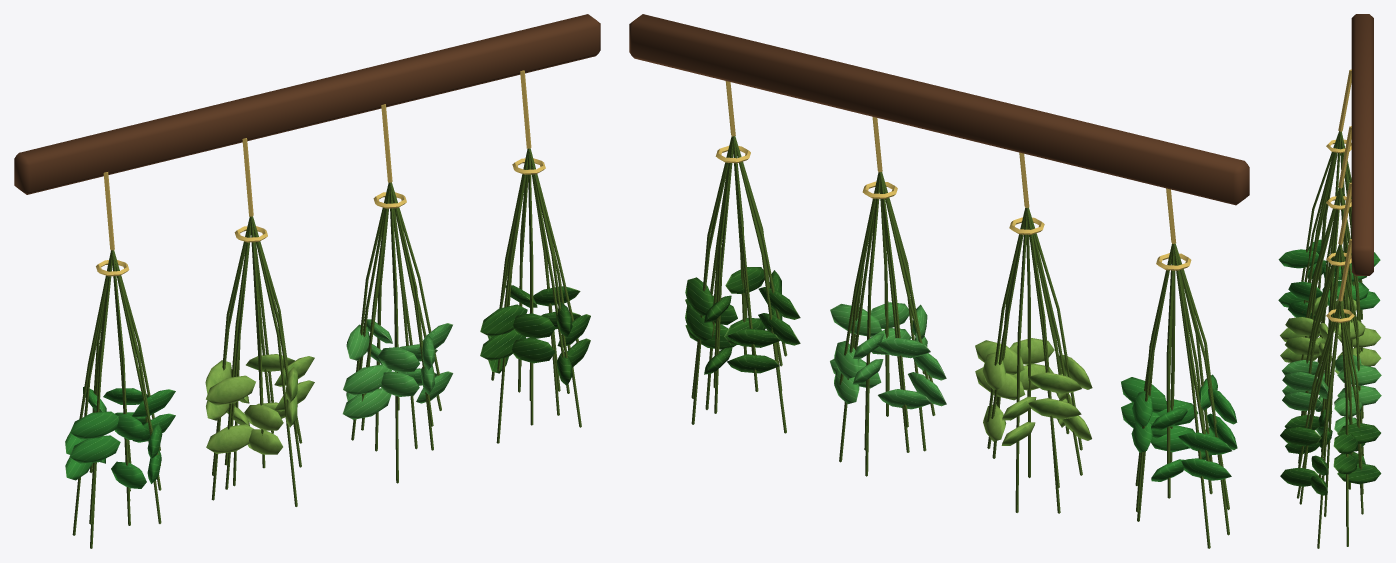
The model's file is hanging_herb_bundles.glb.
3 renders of one model, left to right at view 1: azimuth 30°, elevation 25°; view 2: azimuth 150°, elevation 25°; view 3: azimuth 270°, elevation 25°, orthographic. The views are drawn at different scales.
Parts seen in each view (by area): view 1: hanging_herb_bundles; view 2: hanging_herb_bundles; view 3: hanging_herb_bundles.
Boxes of the visible parts, x1,y1,x2,y2 form: hanging_herb_bundles: [14, 14, 600, 548]; hanging_herb_bundles: [629, 14, 1249, 548]; hanging_herb_bundles: [1278, 14, 1381, 548].
Bounding box in the file's own units: 0.5 × 0.3151 × 0.0928.
Materials: 7 (4 with a texture image).
